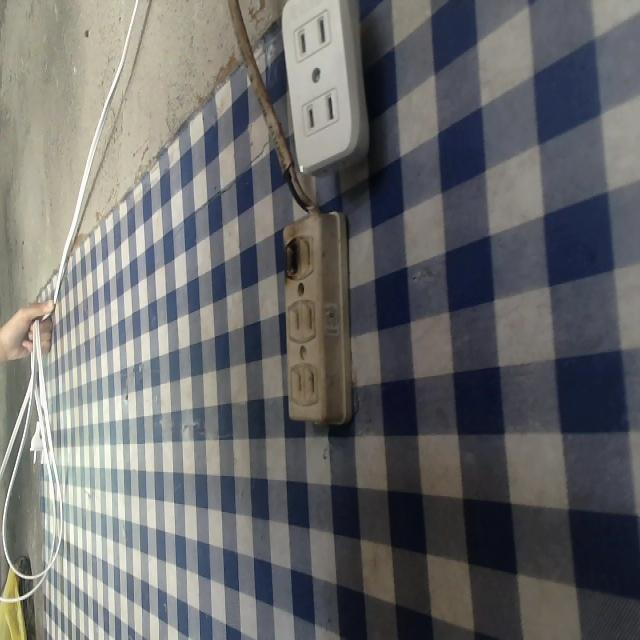-: (276, 236, 302, 284)
